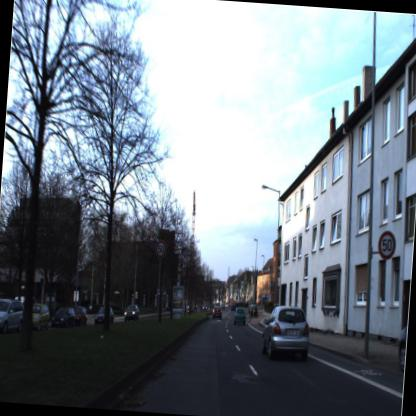prohibitory: (375, 228, 397, 262), (153, 238, 168, 260)
